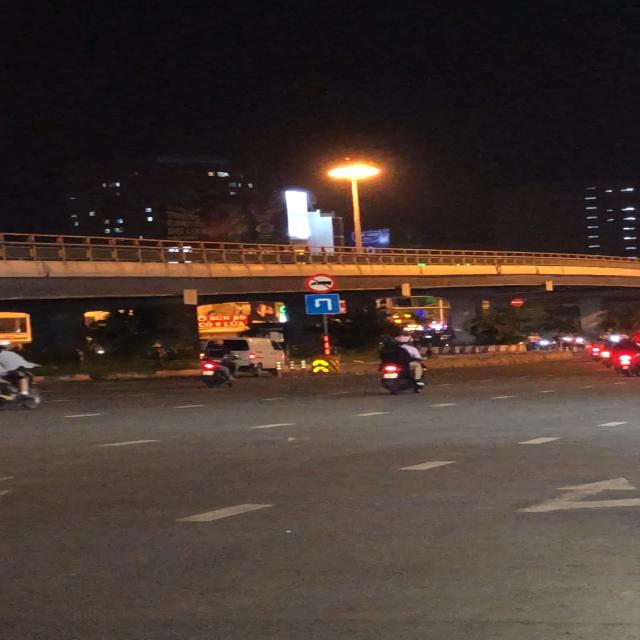Bien bao cam xe so-mi ro-mooc: (304, 274, 337, 294)
